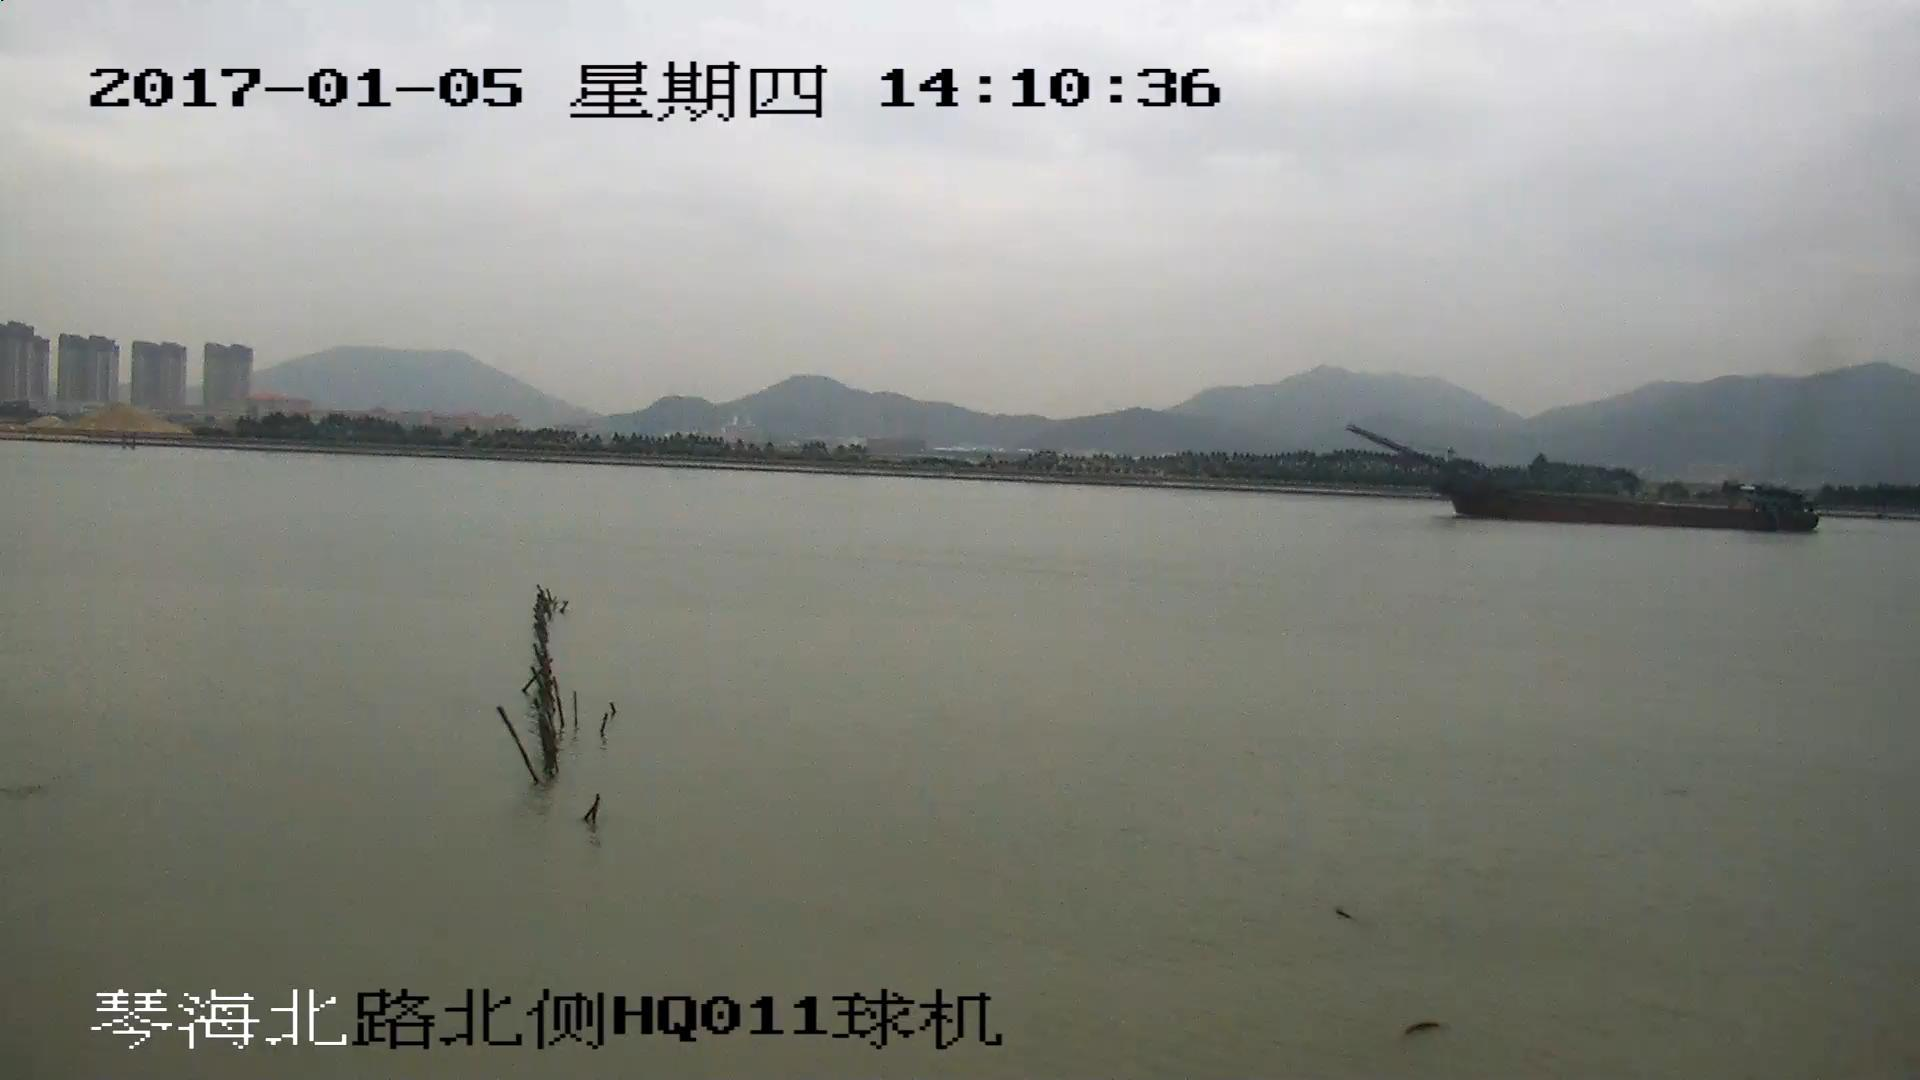Ship: (1349, 427, 1816, 533)
